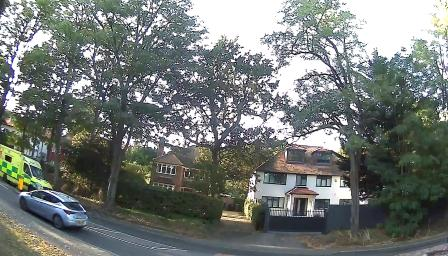Cars: (1, 143, 59, 198)
